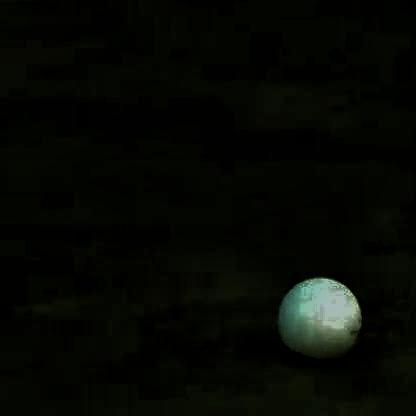golfball: (270, 274, 358, 357)
